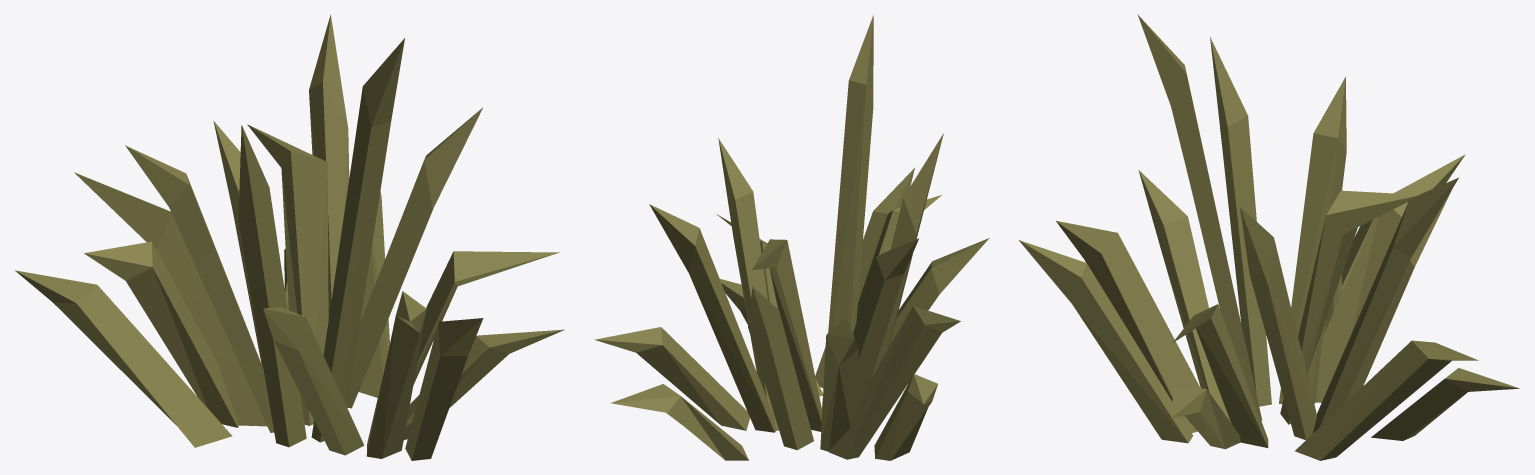
Rendered from SM_Generic_Grass_Patch_02.obj.
3 renders of one model, left to right at view 1: azimuth 30°, elevation 25°; view 2: azimuth 150°, elevation 25°; view 3: azimuth 270°, elevation 25°, orthographic. The views are drawn at different scales.
Visible parts, largest first — view 1: SM_Generic_Grass_Patch_02_0; view 2: SM_Generic_Grass_Patch_02_0; view 3: SM_Generic_Grass_Patch_02_0.
Part boxes in pixels (<box>): SM_Generic_Grass_Patch_02_0: <box>15,14,564,460</box>; SM_Generic_Grass_Patch_02_0: <box>594,15,989,460</box>; SM_Generic_Grass_Patch_02_0: <box>1019,14,1519,460</box>.
Bounding box in the file's own units: 1.11 × 1.16 × 1.29.
Materials: 1 (1 with a texture image).
